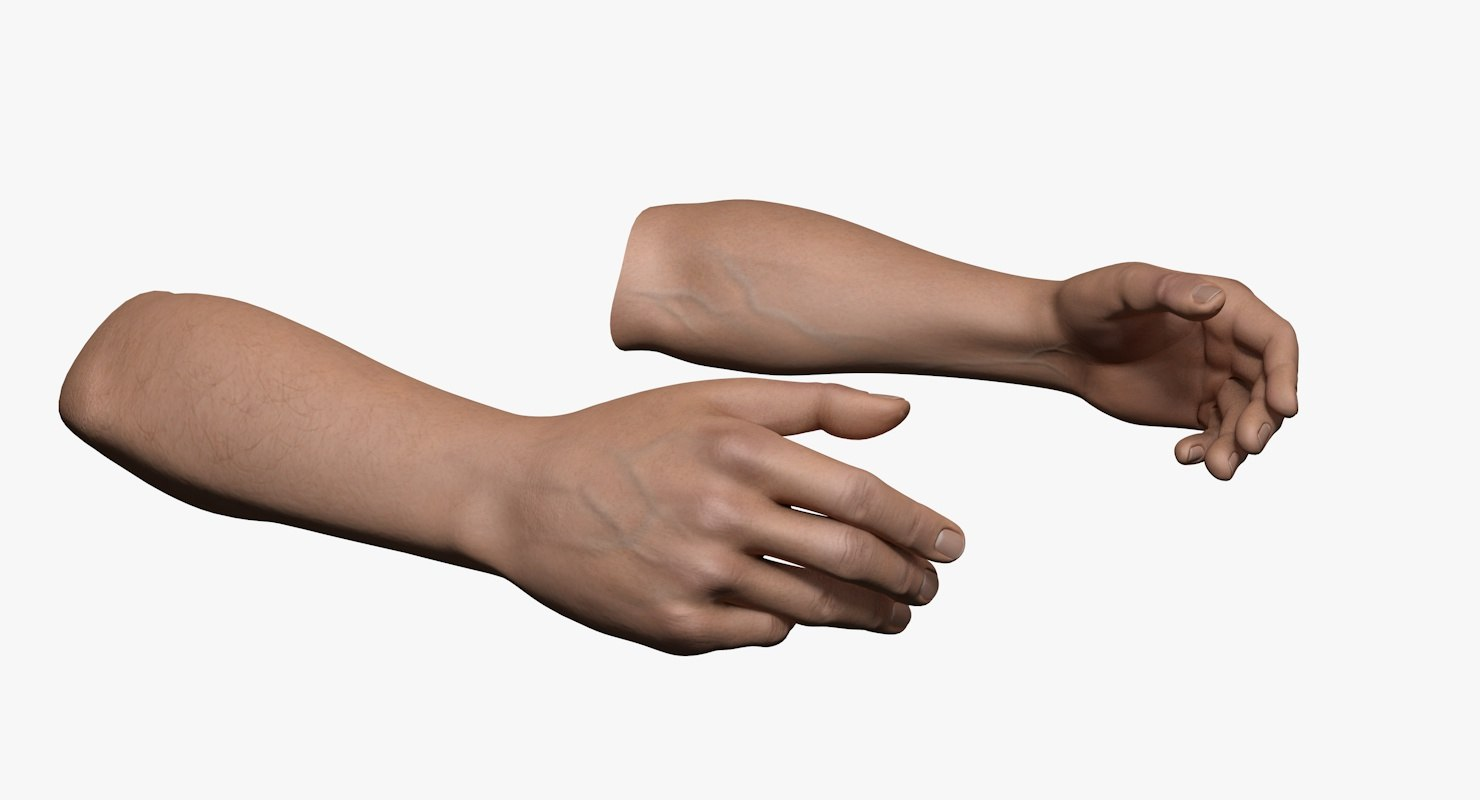finger: (767, 437, 975, 564), (756, 494, 936, 603), (735, 547, 911, 631), (1230, 287, 1308, 411), (1230, 350, 1290, 456), (1205, 386, 1258, 490), (684, 612, 788, 652), (1174, 401, 1220, 464)
